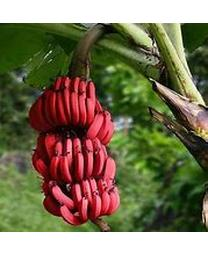banana: (25, 74, 122, 226)
